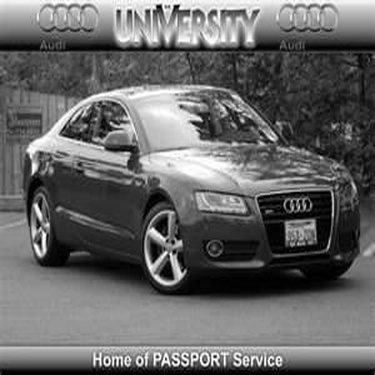car: (26, 78, 367, 298)
